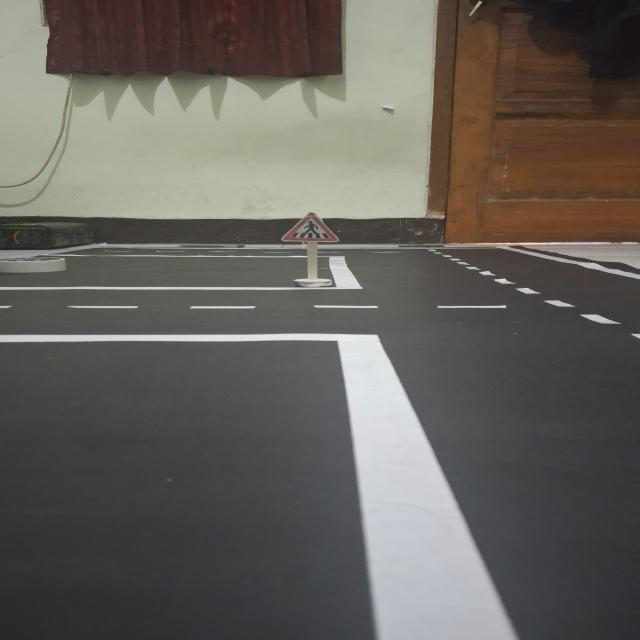Rambu Penyebrangan: (281, 212, 339, 242)
